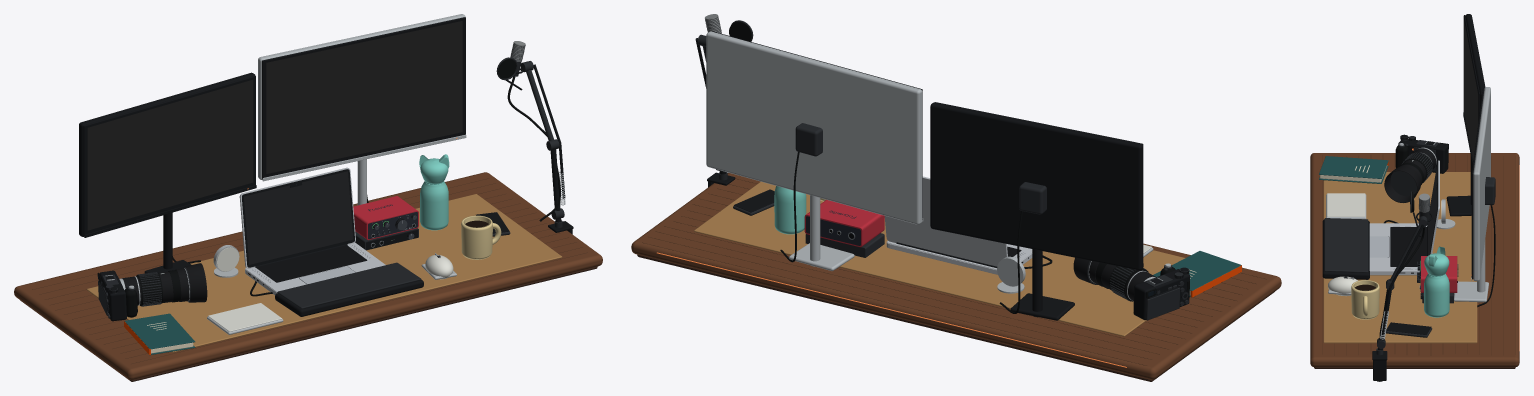
3 views of the same model, side by side, from view 1: azimuth 30°, elevation 25°; view 2: azimuth 150°, elevation 25°; view 3: azimuth 270°, elevation 25° (orthographic). The views are drawn at different scales.
Visible parts, largest first — view 1: Monitor screens, Warm walnut desktop, Cognac desk mat, Soft black polymer, Laptop screen, Brushed silver aluminum, Interactive_Keyboard Anodized graphite, Shiv — After Hours / Bottle • mint silicone, Fine wood grain, Laptop keyboard, MacBook satin aluminum, Warm white accessories (+13 smaller); view 2: Brushed silver aluminum, Soft black polymer, Warm walnut desktop, Cognac desk mat, MacBook satin aluminum, Fine wood grain, Anodized graphite, Audio interface red aluminum, Walnut end grain, Interactive_Camera Anodized graphite, Interactive_Diary_Cover Book jacket, Shiv — After Hours / Bottle • mint silicone (+6 smaller); view 3: Warm walnut desktop, Cognac desk mat, Brushed silver aluminum, Soft black polymer, Interactive_Keyboard Anodized graphite, Shiv — After Hours / Bottle • mint silicone, Monitor screens, MacBook satin aluminum, Interactive_Diary_Cover Book jacket, Laptop keyboard, Fine wood grain, Cream ceramic (+19 smaller).
Part boxes in pixels (<box>): Monitor screens: <box>87,21,462,230</box>; Warm walnut desktop: <box>14,172,602,379</box>; Cognac desk mat: <box>86,194,562,352</box>; Soft black polymer: <box>79,17,573,285</box>; Laptop screen: <box>244,171,353,264</box>; Brushed silver aluminum: <box>207,14,466,334</box>; Interactive_Keyboard Anodized graphite: <box>277,262,421,308</box>; Shiv — After Hours / Bottle • mint silicone: <box>419,154,449,230</box>; Fine wood grain: <box>24,173,587,363</box>; Laptop keyboard: <box>257,245,366,282</box>; MacBook satin aluminum: <box>239,167,385,295</box>; Warm white accessories: <box>208,247,282,331</box>; Brushed silver aluminum: <box>706,31,1153,293</box>; Soft black polymer: <box>707,31,1143,320</box>; Warm walnut desktop: <box>631,172,1281,379</box>; Cognac desk mat: <box>694,181,1185,336</box>; MacBook satin aluminum: <box>884,176,1032,274</box>; Fine wood grain: <box>642,178,1266,365</box>; Anodized graphite: <box>719,123,1046,257</box>; Audio interface red aluminum: <box>804,199,884,247</box>; Walnut end grain: <box>637,254,1274,381</box>; Interactive_Camera Anodized graphite: <box>1087,260,1188,320</box>; Interactive_Diary_Cover Book jacket: <box>1153,251,1241,290</box>; Shiv — After Hours / Bottle • mint silicone: <box>774,186,806,234</box>; Warm walnut desktop: <box>1310,153,1519,367</box>; Cognac desk mat: <box>1323,172,1477,343</box>; Brushed silver aluminum: <box>1326,87,1490,302</box>; Soft black polymer: <box>1372,14,1485,381</box>; Interactive_Keyboard Anodized graphite: <box>1324,218,1368,272</box>; Shiv — After Hours / Bottle • mint silicone: <box>1424,246,1449,317</box>; Monitor screens: <box>1463,19,1478,160</box>; MacBook satin aluminum: <box>1369,160,1439,275</box>; Interactive_Diary_Cover Book jacket: <box>1319,156,1388,178</box>; Laptop keyboard: <box>1390,227,1426,266</box>; Fine wood grain: <box>1322,154,1515,355</box>; Cream ceramic: <box>1351,280,1379,319</box>.
Size of the model in its own units: 7.21 by 3.15 by 3.05.
